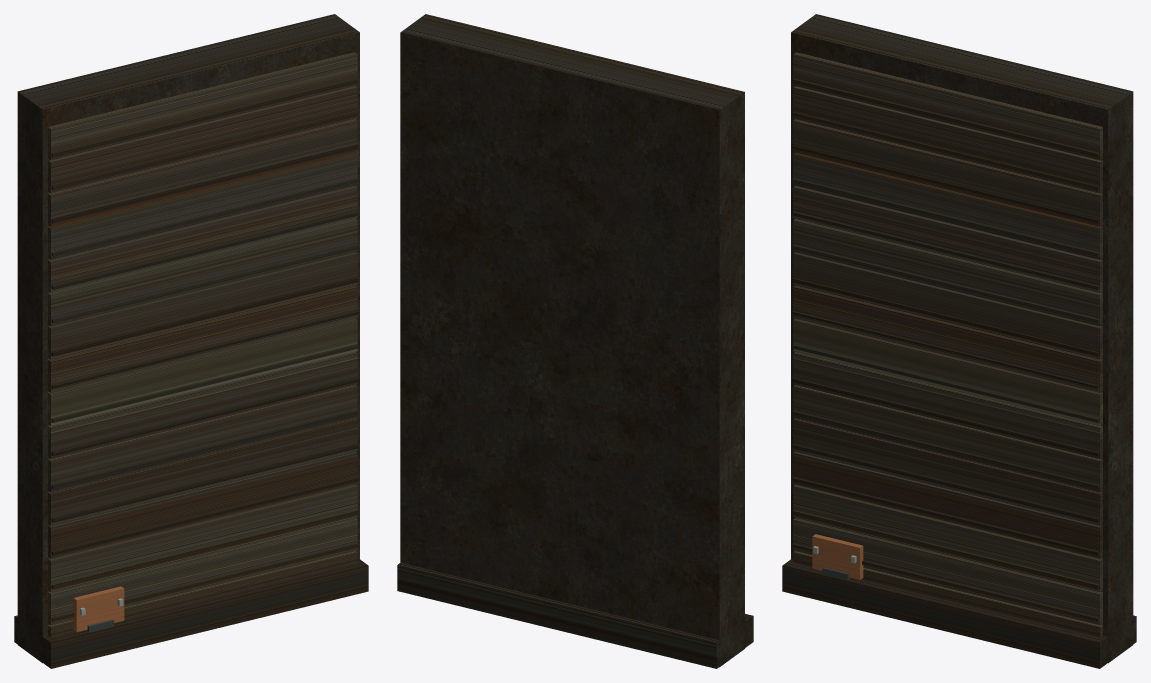
File: school_exit_shutter.glb
3 renders of one model, left to right at view 1: azimuth 30°, elevation 25°; view 2: azimuth 150°, elevation 25°; view 3: azimuth 330°, elevation 25°, orthographic.
Parts seen in each view (by area): view 1: Roller Slats / Steel Edge, Shutter Panel / Steel Dark, Slat Seams / Frame, Lower Rail / Frame, Pry Plate / Painted Latch; view 2: Shutter Panel / Steel Dark, Lower Rail / Frame; view 3: Roller Slats / Steel Edge, Shutter Panel / Steel Dark, Slat Seams / Frame, Lower Rail / Frame, Pry Plate / Painted Latch.
Boxes of the visible parts, bbox=[...] form: Roller Slats / Steel Edge: bbox=[48, 52, 357, 637]; Shutter Panel / Steel Dark: bbox=[17, 14, 359, 663]; Slat Seams / Frame: bbox=[51, 78, 358, 622]; Lower Rail / Frame: bbox=[14, 559, 368, 668]; Pry Plate / Painted Latch: bbox=[73, 586, 124, 632]; Shutter Panel / Steel Dark: bbox=[400, 14, 744, 667]; Lower Rail / Frame: bbox=[397, 562, 753, 668]; Roller Slats / Steel Edge: bbox=[793, 52, 1102, 637]; Shutter Panel / Steel Dark: bbox=[791, 14, 1133, 663]; Slat Seams / Frame: bbox=[792, 78, 1099, 622]; Lower Rail / Frame: bbox=[782, 559, 1136, 668]; Pry Plate / Painted Latch: bbox=[812, 534, 863, 579].
Size of the model in its own units: 1.2 by 2 by 0.24.
6 materials, 4 textured.
